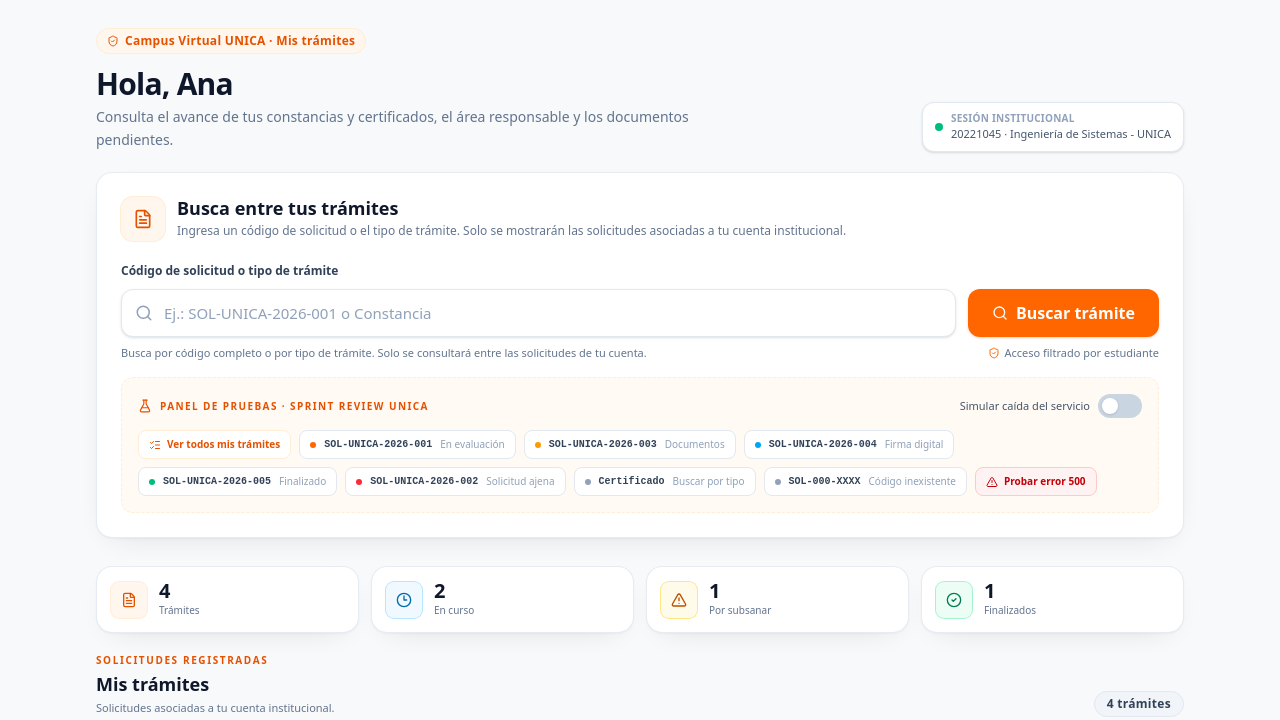
Campus Virtual UNICA · integración UI › muestra el estado finalizado y el panel de entrega
The width and height of the screenshot is (1280, 720).
Type "SOL-UNICA-2026-005" into the field labelled "Código de solicitud o tipo de trámite".
click(538, 312); type("SOL-UNICA-2026-005")  # box [121,288,956,336]
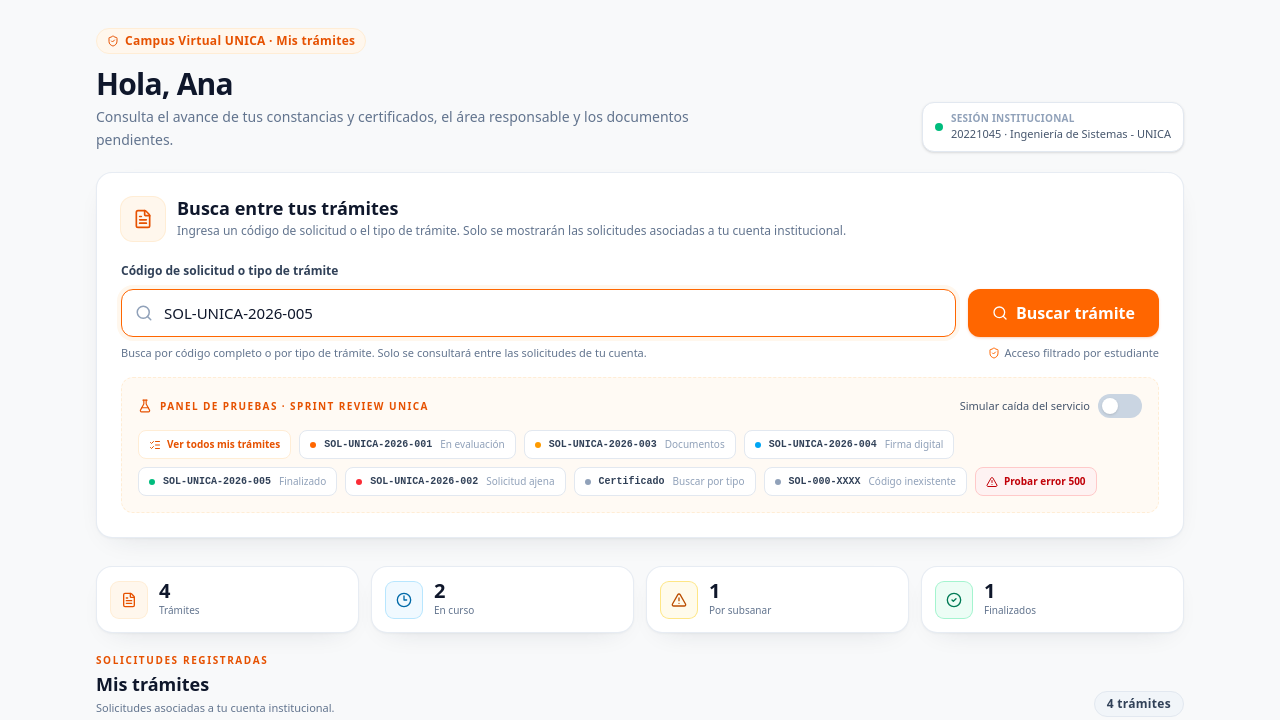
Click the button "Buscar trámite".
click(1063, 312)  # box [968,288,1159,336]
(page scrolled)
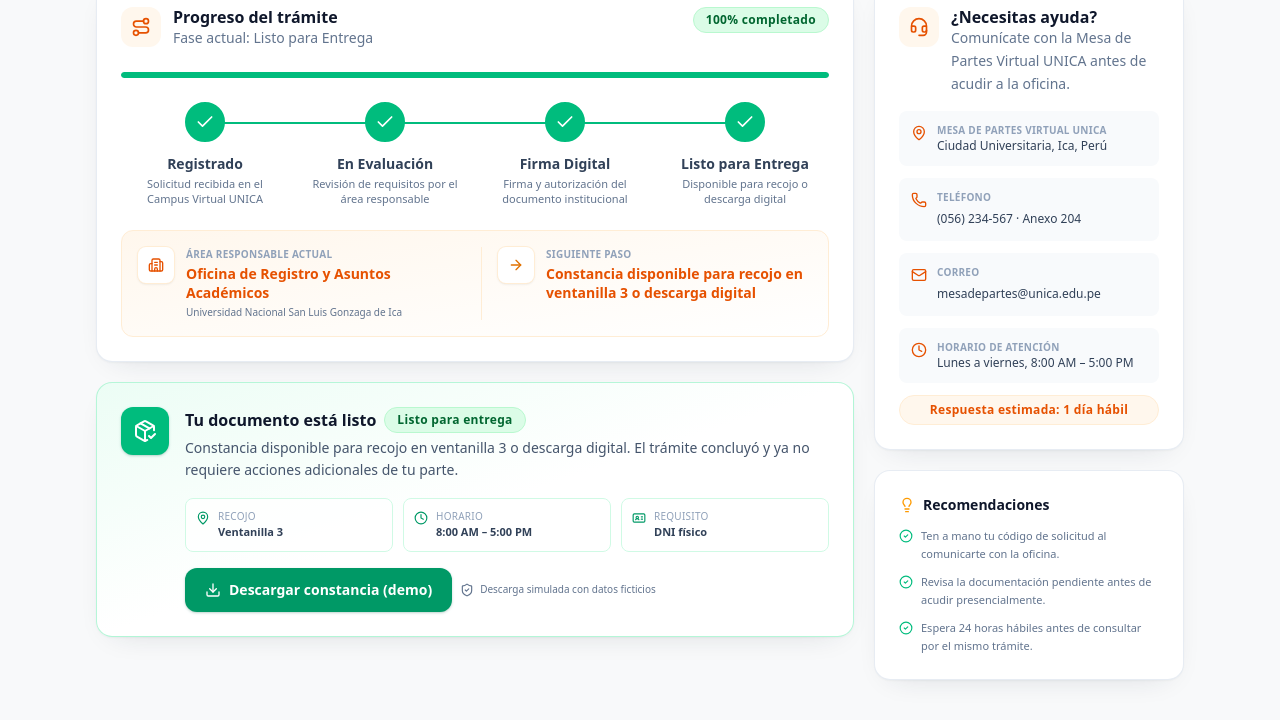
Expected: the heading "Tu documento está listo" is shown, [185,408,376,432]
Expected: the text "Listo para entrega" is shown, [384,407,526,433]
Expected: the button "Descargar constancia (demo)" is shown, [185,568,452,612]
